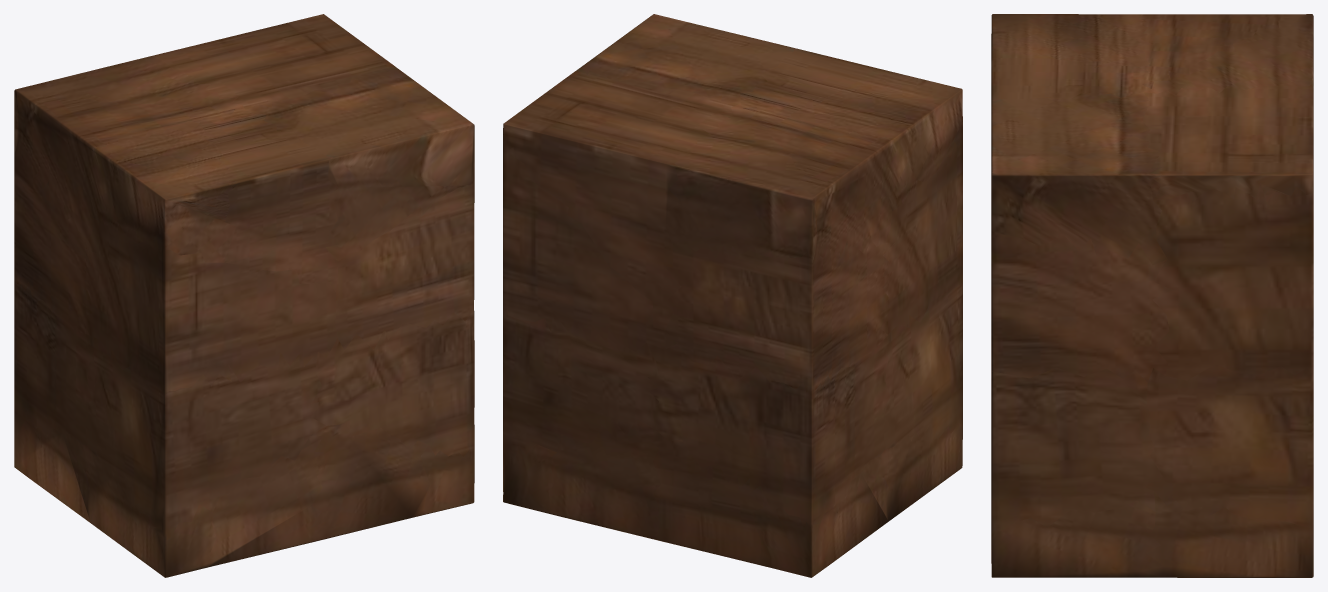
File: 木梁天花板第二版.glb
The picture shows the model from 3 angles, left to right: view 1: azimuth 30°, elevation 25°; view 2: azimuth 150°, elevation 25°; view 3: azimuth 270°, elevation 25°; orthographic projection. The views are drawn at different scales.
Parts seen in each view (by area): view 1: tripo_node_743b6388-70cc-4c0f-b995-287f4ad7dbaa; view 2: tripo_node_743b6388-70cc-4c0f-b995-287f4ad7dbaa; view 3: tripo_node_743b6388-70cc-4c0f-b995-287f4ad7dbaa.
Part boxes in pixels (bbox=[...]): tripo_node_743b6388-70cc-4c0f-b995-287f4ad7dbaa: bbox=[14, 14, 474, 577]; tripo_node_743b6388-70cc-4c0f-b995-287f4ad7dbaa: bbox=[503, 14, 962, 577]; tripo_node_743b6388-70cc-4c0f-b995-287f4ad7dbaa: bbox=[991, 14, 1313, 577].
Size of the model in its own units: 0.8544 by 1 by 0.7224.
Materials: 1 (1 with a texture image).
